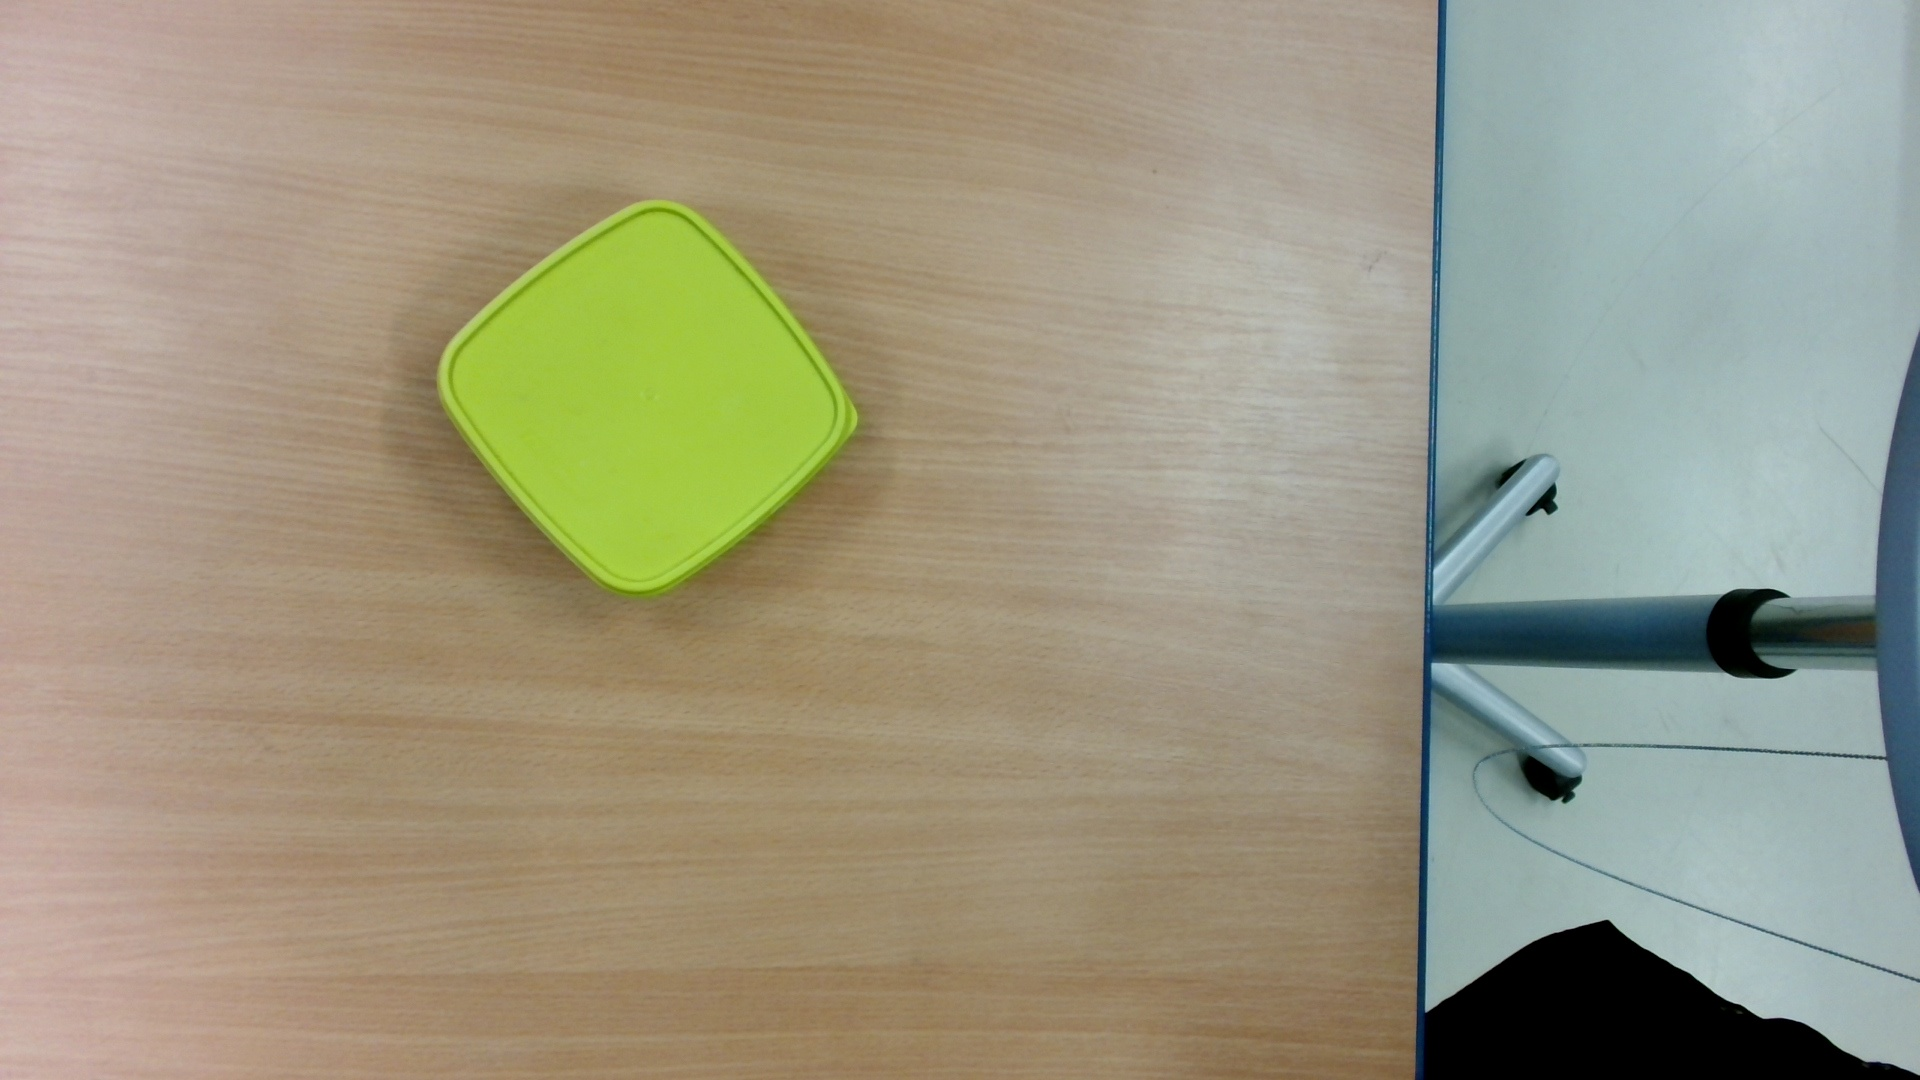Box: (433, 189, 868, 611)
